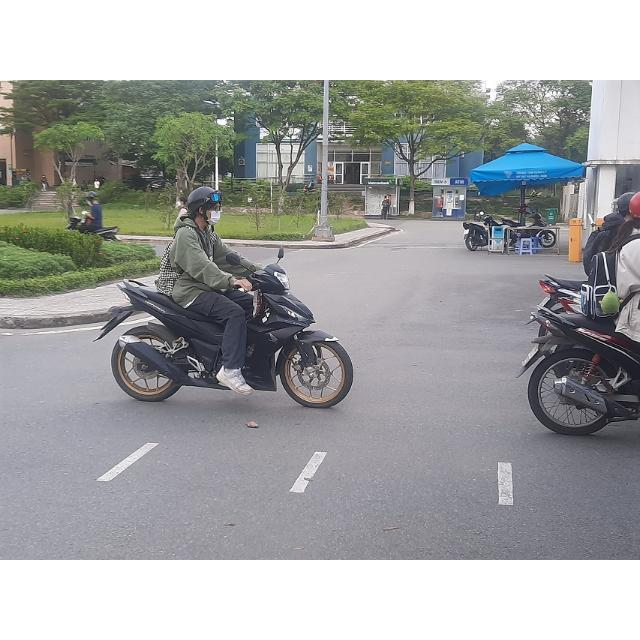Helmet: (187, 186, 223, 227)
